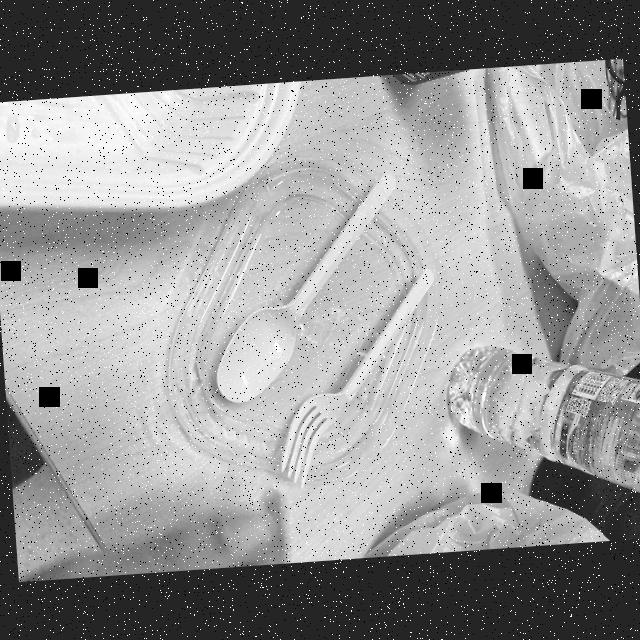plastic_spoon: (176, 164, 409, 410), (254, 258, 445, 484)
